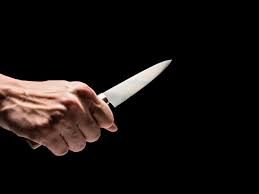knife: (25, 56, 177, 153)
